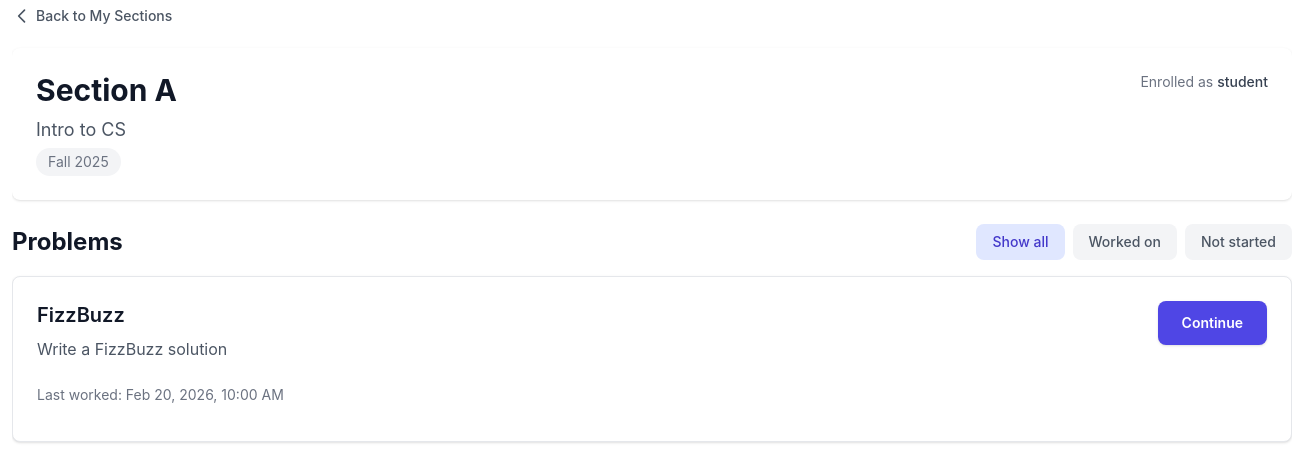
Test: StudentSectionView › problem filter toggle › shows "All problems have been started" when unstarted filter active and no matches
Click the button "Not started".
click(1238, 242)  # box [1185, 224, 1292, 260]
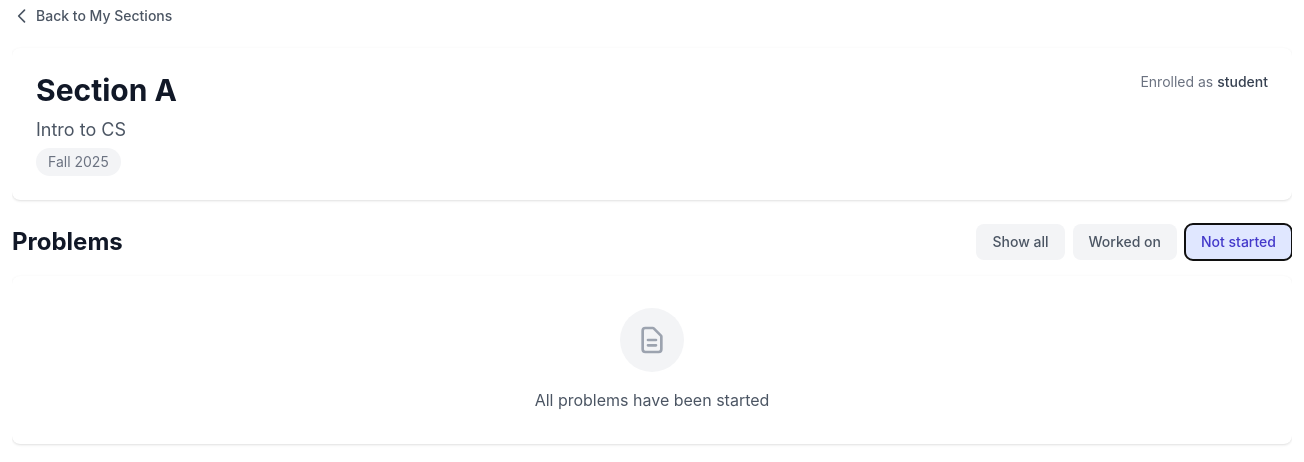
Expected: the text "All problems have been started" is shown, [535, 390, 769, 410]
